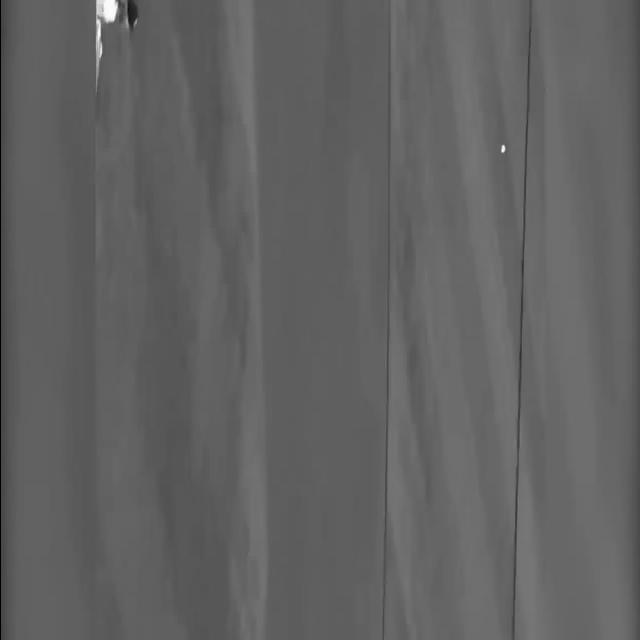baseball: (500, 144, 505, 153)
